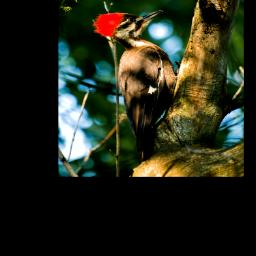Woodpecker: (93, 8, 186, 163)
